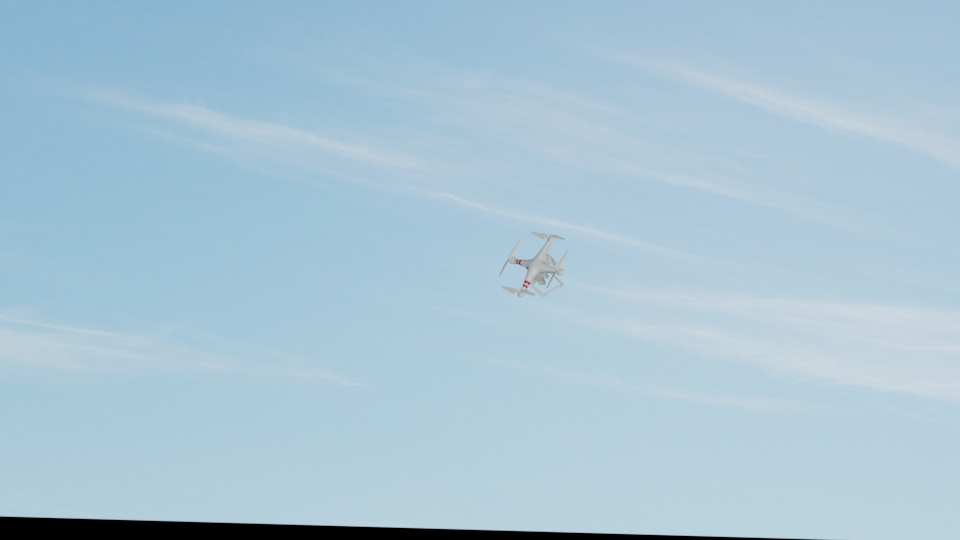drone: (498, 228, 571, 299)
